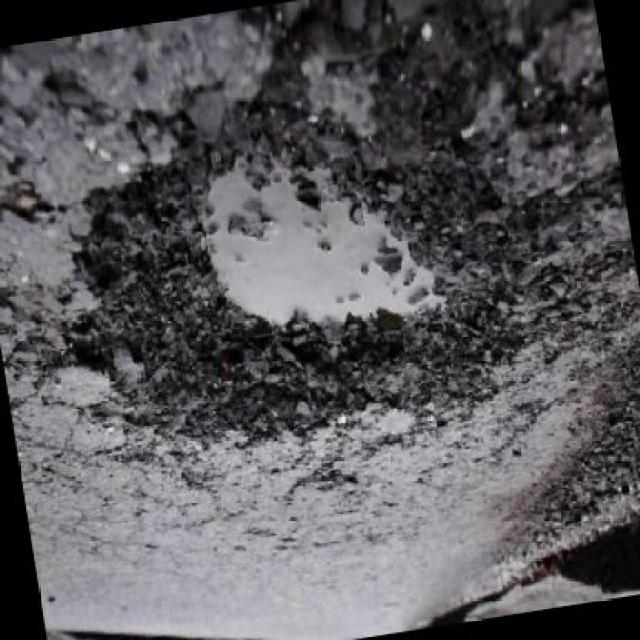pothole1: (50, 77, 544, 475)
